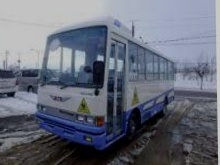bus: (36, 16, 176, 154)
